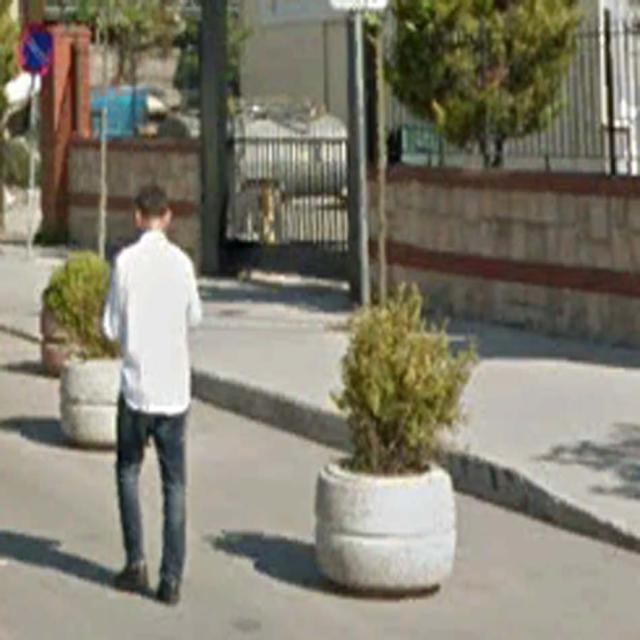parkyasak: (17, 23, 53, 77)
